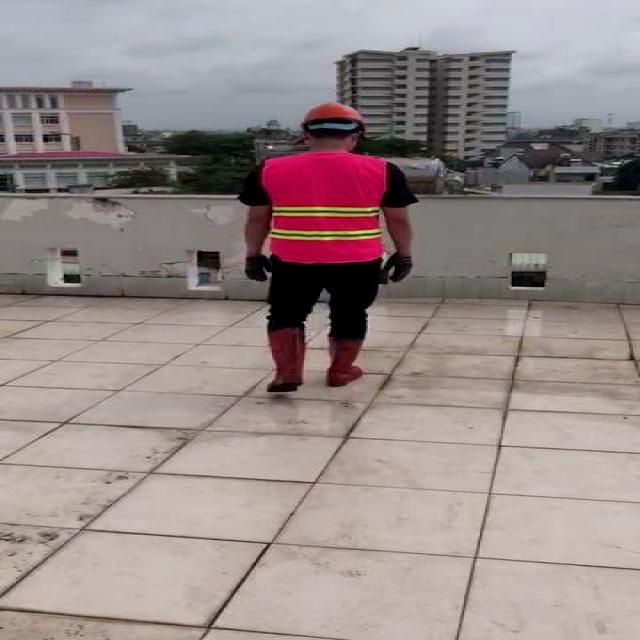boots: (263, 326, 309, 395), (324, 336, 369, 386)
hand_glove: (382, 255, 414, 283), (242, 257, 272, 284)
head_helmet: (301, 101, 367, 126)
person: (233, 98, 419, 404)
vest: (261, 153, 391, 266)
